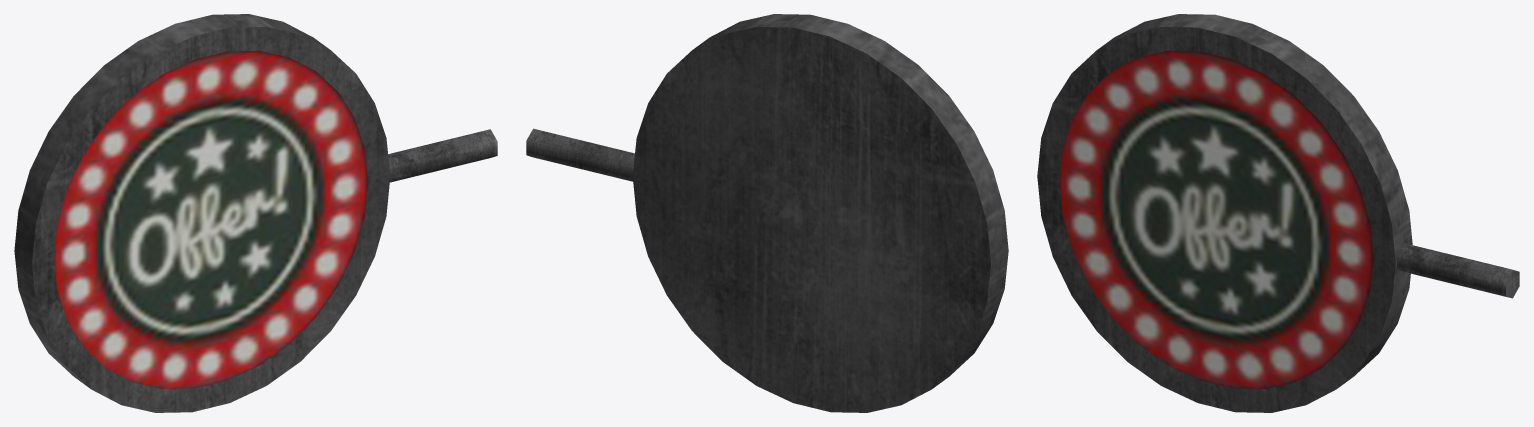
The model's file is sign board29.FBX.
3 views of the same model, side by side, from view 1: azimuth 30°, elevation 25°; view 2: azimuth 150°, elevation 25°; view 3: azimuth 330°, elevation 25° (orthographic).
Visible parts, largest first — view 1: sign board29; view 2: sign board29; view 3: sign board29.
Part boxes in pixels (x1,y1,x2,y2): sign board29: (14,14,497,412); sign board29: (526,14,1008,412); sign board29: (1037,14,1519,412).
Bounding box in the file's own units: 13.54 × 10.4 × 0.882.
